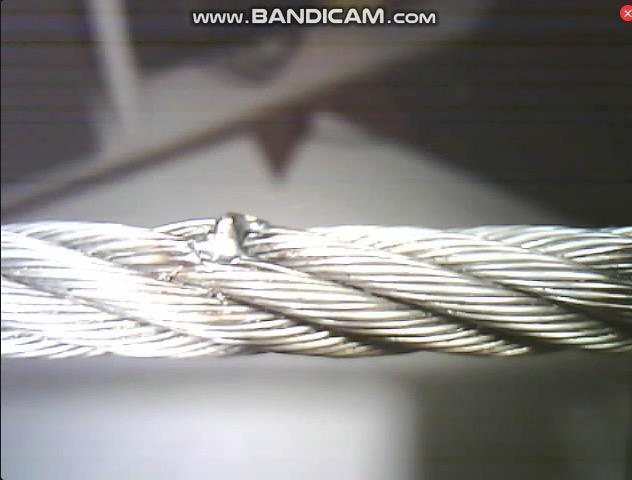thunderbolt: (183, 211, 275, 278)
